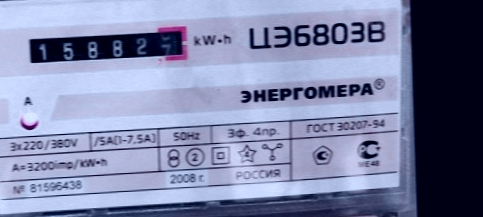1: (36, 41, 48, 60)
2: (135, 36, 147, 55)
5: (61, 40, 73, 60)
7: (160, 42, 171, 56)
8: (86, 38, 98, 60), (111, 37, 123, 59)
screen: (20, 20, 197, 72)
